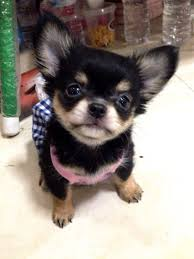chihuahua: (17, 5, 181, 230)
